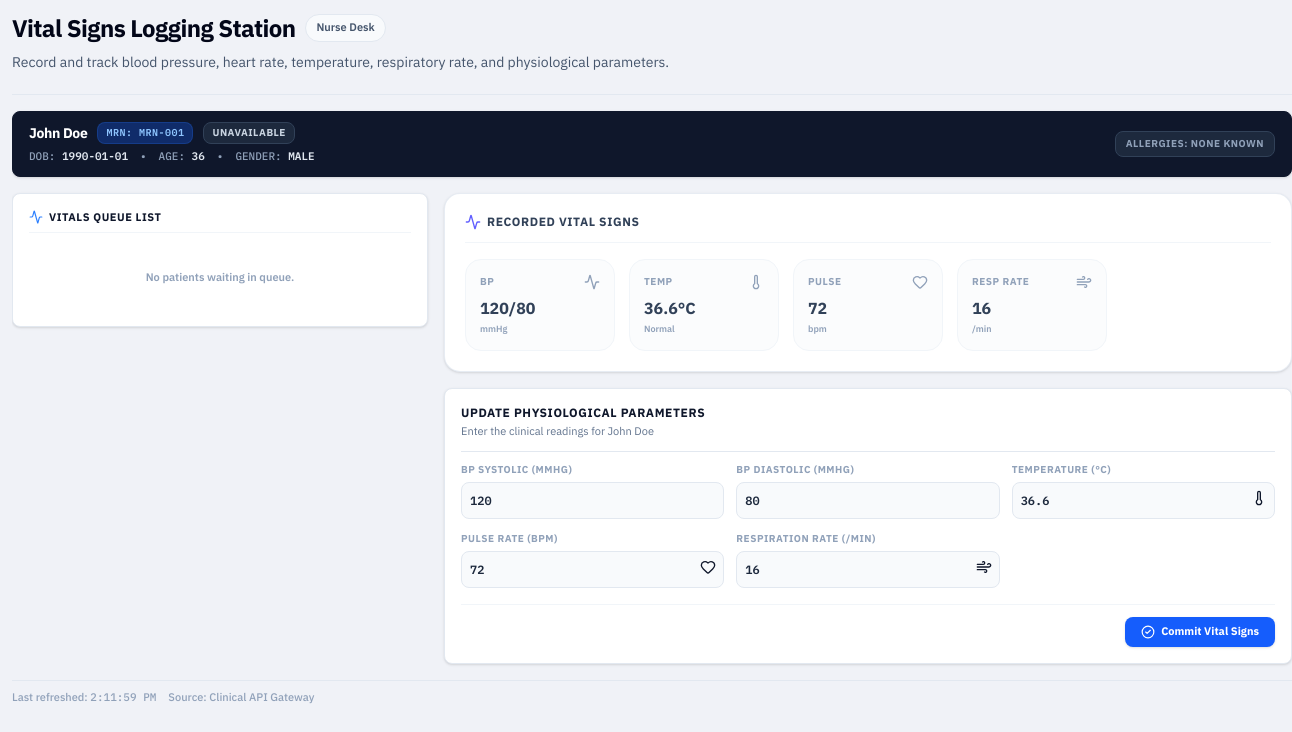
Scenario: NurseVitalsPage Save Mutation › displays network error safely when connection fails
Expected: the heading "Update Physiological Parameters" is shown, x1=461 y1=405 x2=705 y2=420
Click the button "Commit Vital Signs" at (1200, 632), box x1=1125 y1=617 x2=1275 y2=647
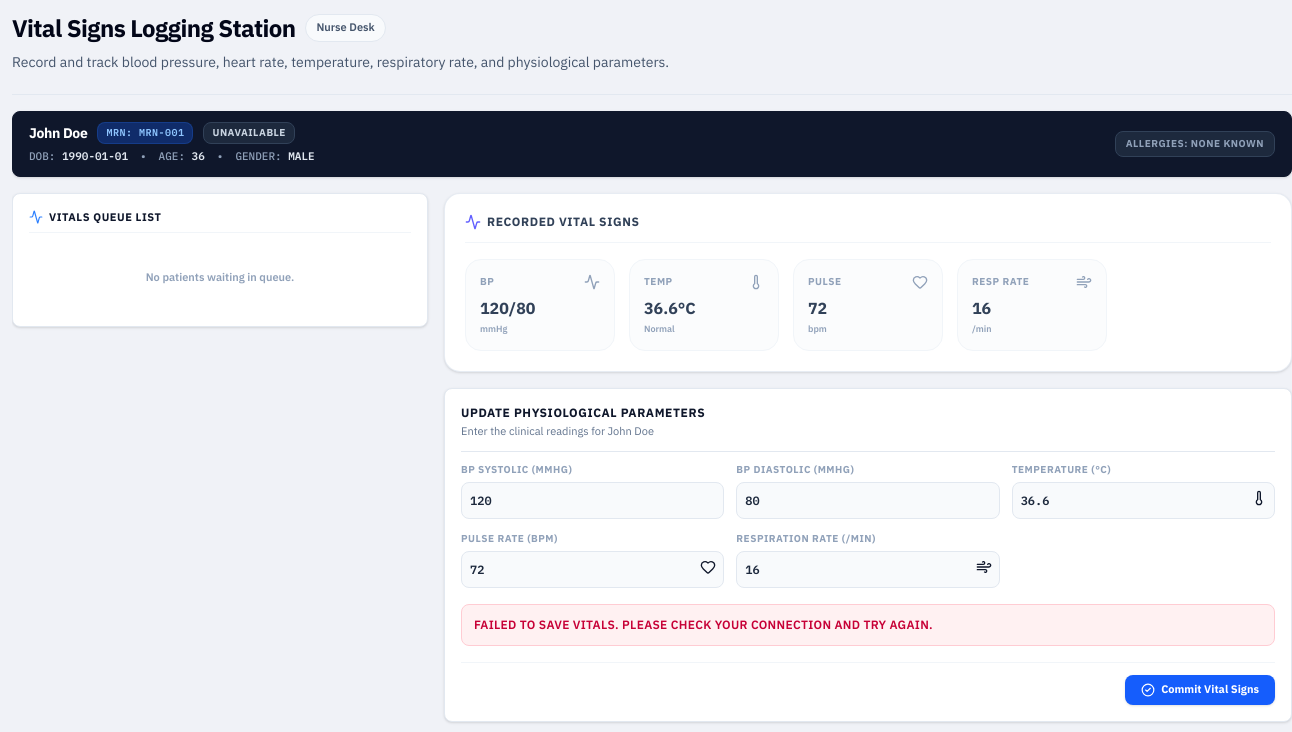
Expected: the text "Failed to save vitals" is shown, x1=474 y1=617 x2=933 y2=632
